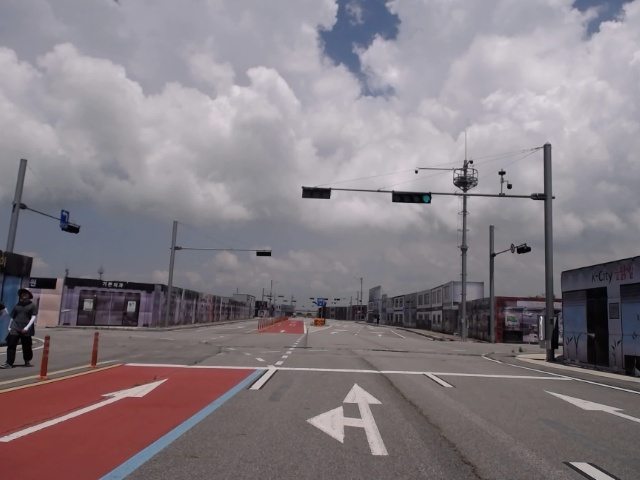straight_green_4: (393, 191, 432, 204)
